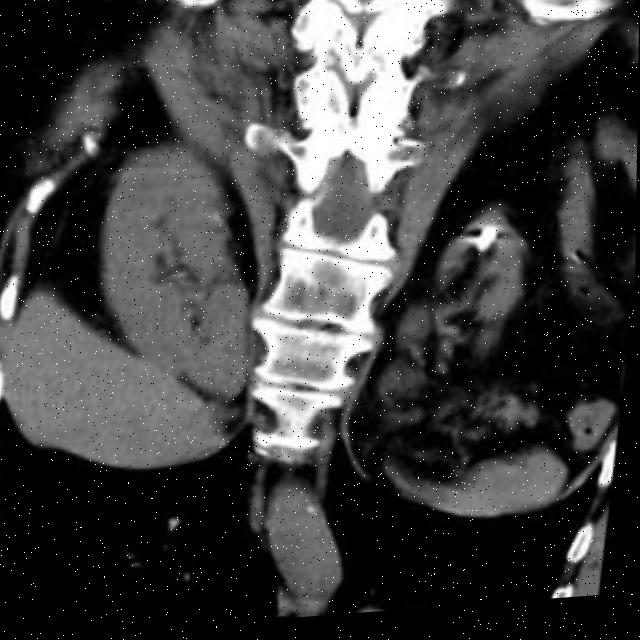Tas_Var: (469, 229, 504, 264)
